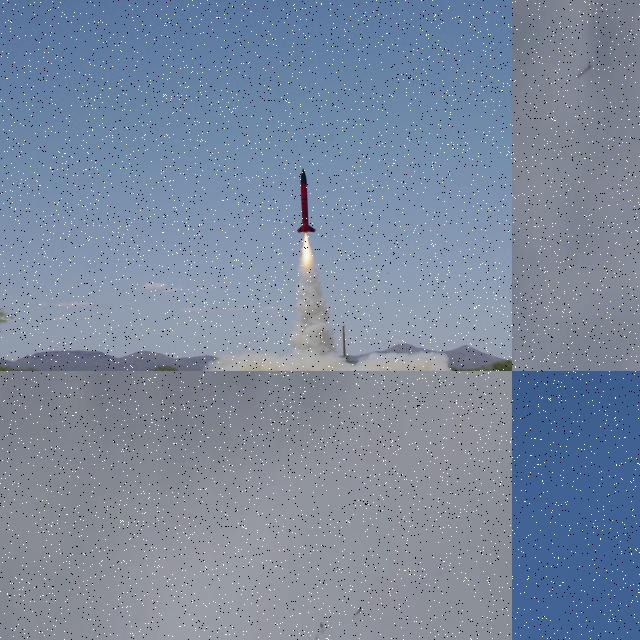Rocket: (296, 168, 316, 233), (576, 63, 592, 78), (356, 608, 362, 616)
